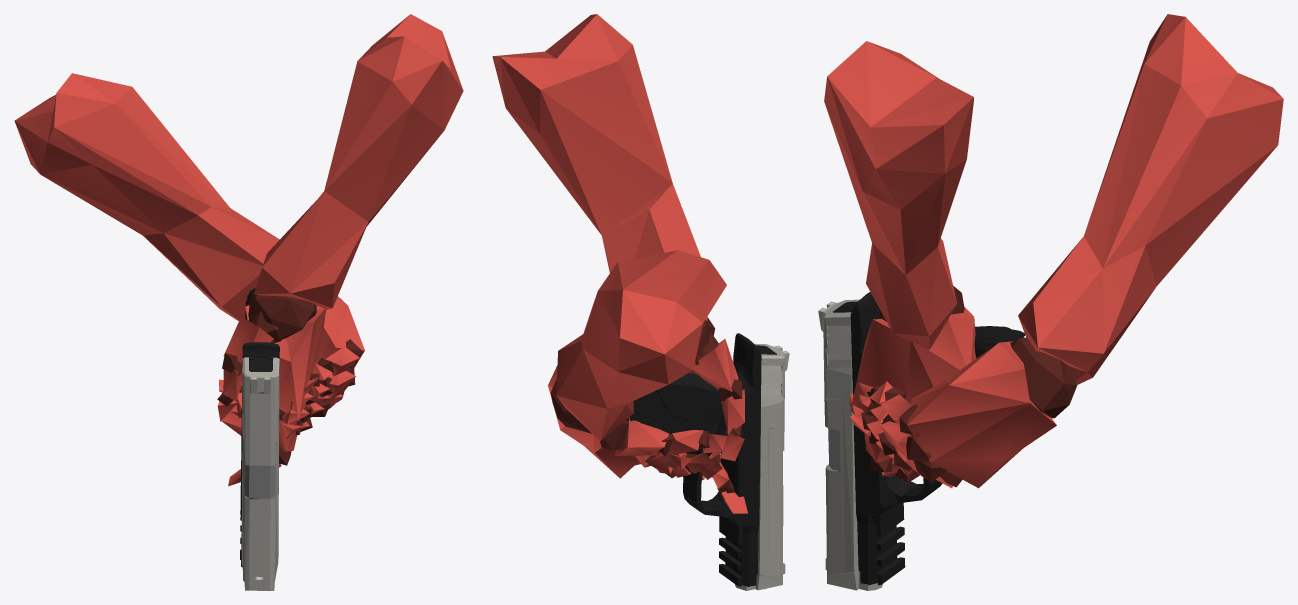
File: M&P9shootExtendLowPoly_000016.obj
3 views of the same model, side by side, from view 1: azimuth 30°, elevation 25°; view 2: azimuth 150°, elevation 25°; view 3: azimuth 270°, elevation 25° (orthographic). The views are drawn at different scales.
Parts seen in each view (by area): view 1: Beta_Surface, slide_平面.002, Beta_Joints, barrel_円.001, body_平面; view 2: Beta_Surface, body_平面, slide_平面.002, Beta_Joints; view 3: Beta_Surface, body_平面, slide_平面.002, Beta_Joints.
Boxes of the visible parts, x1=… form: Beta_Surface: x1=14, y1=14, x2=463, y2=486; slide_平面.002: x1=241, y1=357, x2=279, y2=590; Beta_Joints: x1=217, y1=293, x2=361, y2=465; barrel_円.001: x1=245, y1=465, x2=275, y2=499; body_平面: x1=240, y1=288, x2=279, y2=566; Beta_Surface: x1=492, y1=14, x2=747, y2=513; body_平面: x1=630, y1=333, x2=761, y2=586; slide_平面.002: x1=735, y1=343, x2=789, y2=590; Beta_Joints: x1=550, y1=317, x2=742, y2=500; Beta_Surface: x1=824, y1=14, x2=1283, y2=488; body_平面: x1=850, y1=292, x2=1025, y2=585; slide_平面.002: x1=818, y1=299, x2=882, y2=590; Beta_Joints: x1=861, y1=286, x2=1077, y2=487.
Bounding box in the file's own units: 46.82 × 74.51 × 49.61.
